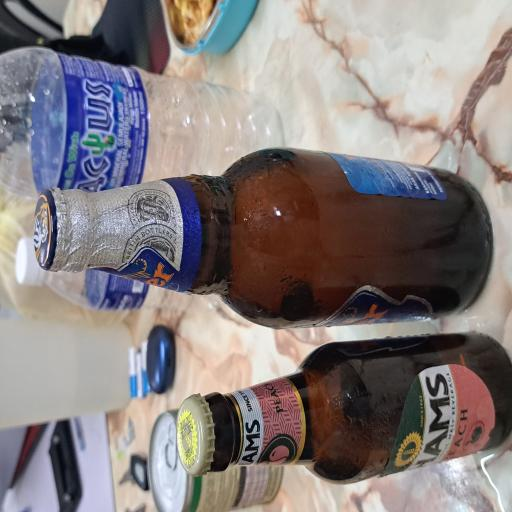can: (0, 200, 77, 378)
glass bottle: (140, 43, 273, 512), (20, 231, 132, 512)
plastic bottle: (236, 0, 348, 381), (149, 62, 211, 298)
plastic bottle cap: (168, 21, 208, 60)
pop tab: (30, 219, 68, 235)
